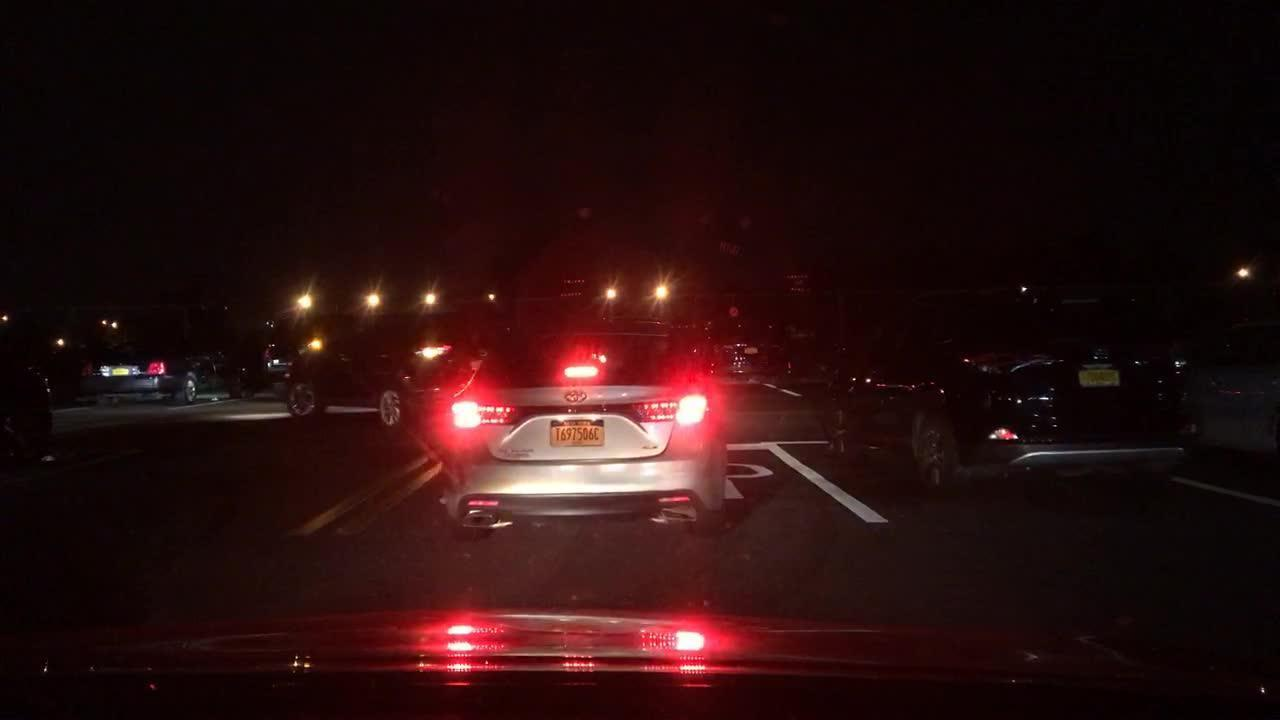Toyota: (551, 382, 601, 410)
